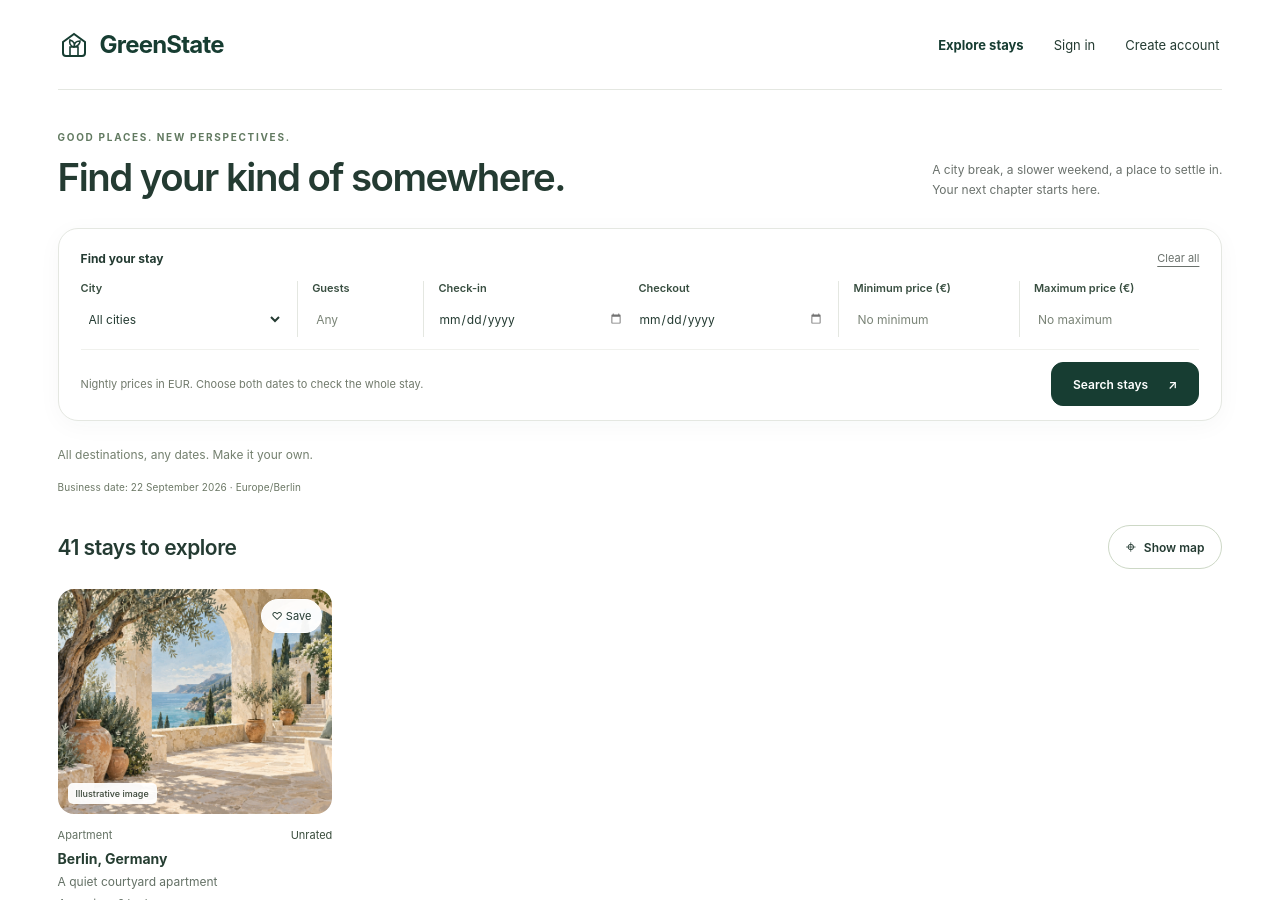
Test: URL-driven search › rejects fractional cents before sending a search request
The width and height of the screenshot is (1280, 900).
expect the link "A quiet courtyard apartment" is shown: met, box [58, 874, 218, 890]
Step 1. Type "12.345" into the field labelled "Minimum price (€)" → (929, 319), box [854, 301, 1005, 337]
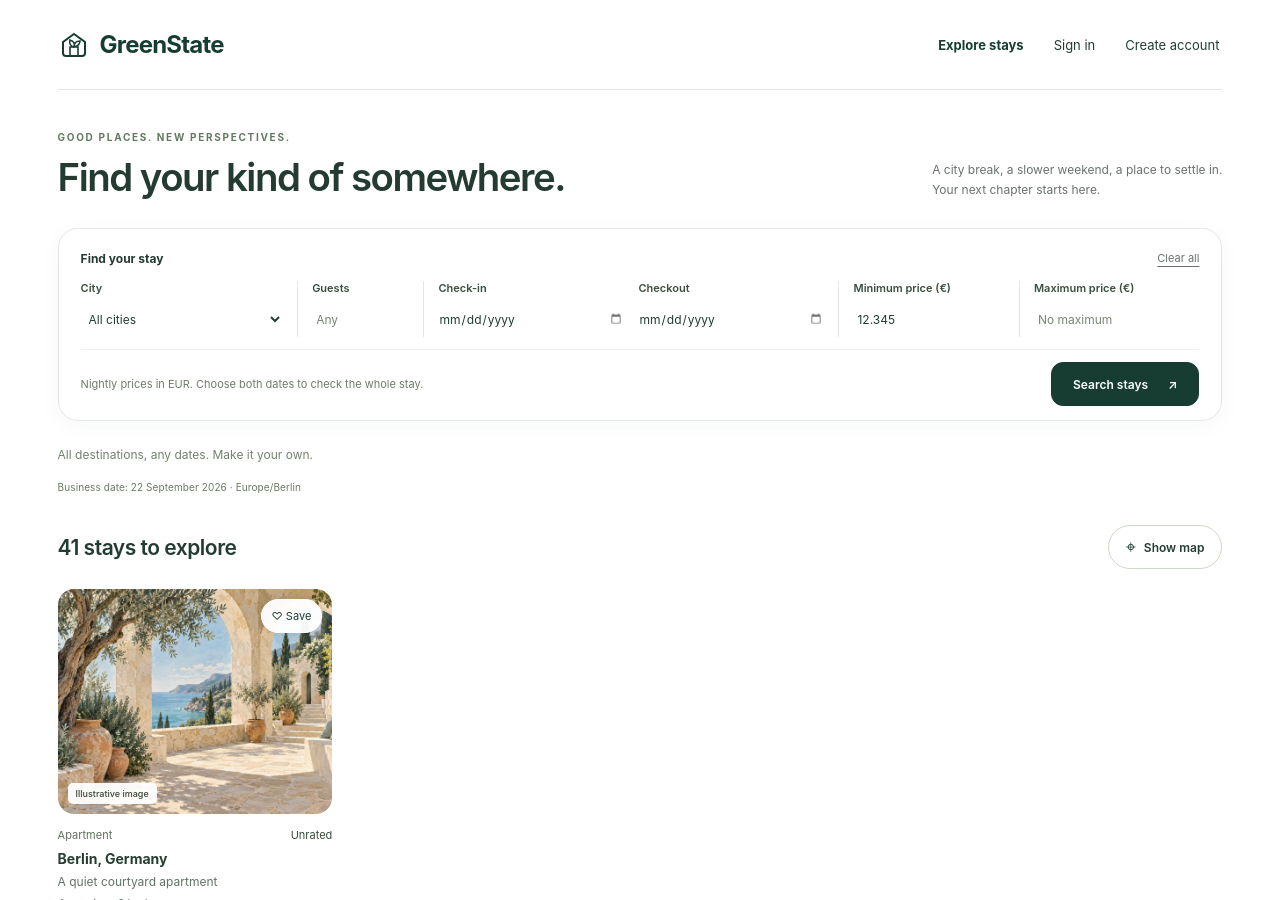
Step 2. Click the button "Search stays ↗" → (1125, 384), box [1051, 362, 1199, 406]
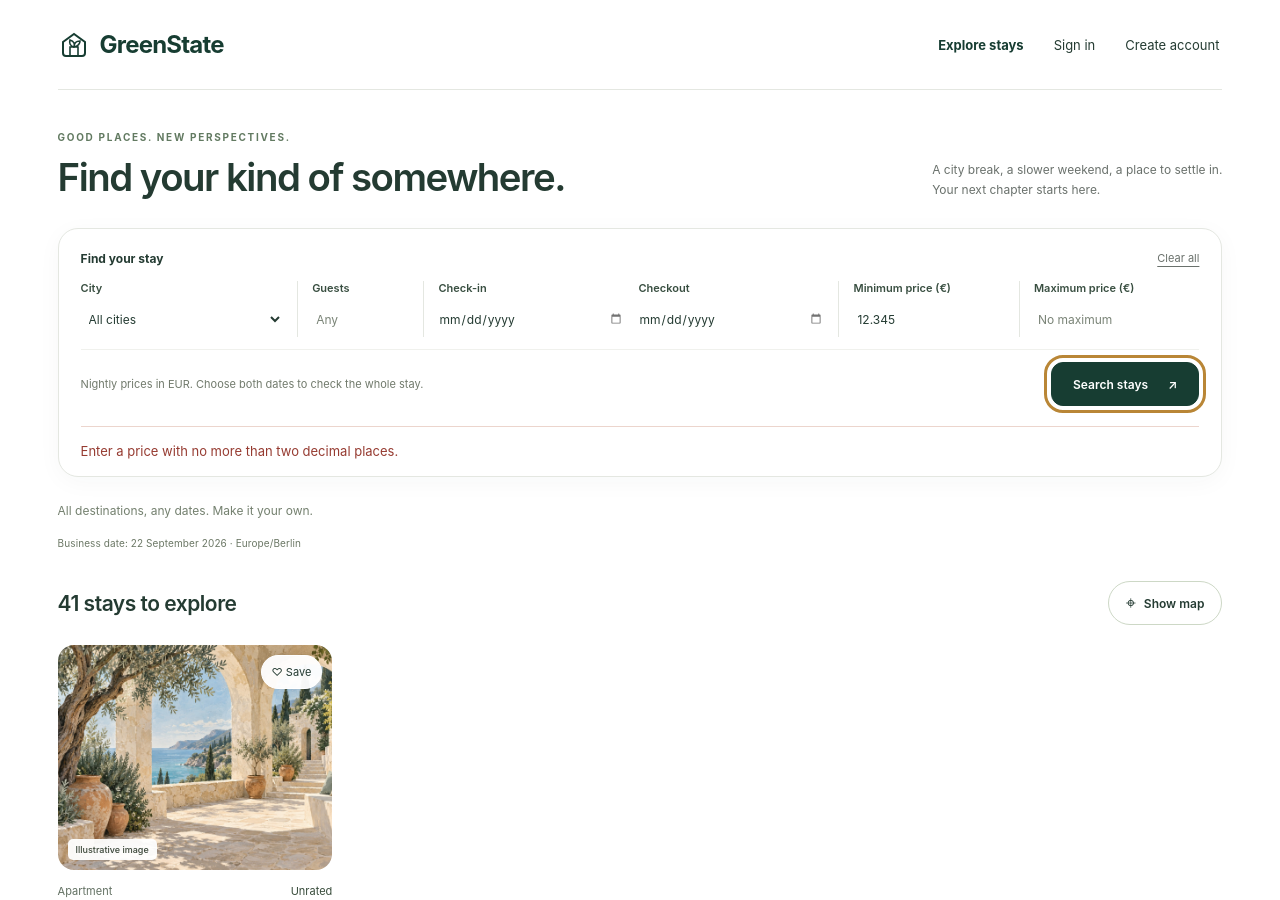
expect the message shows "two decimal places": met, box [81, 443, 398, 459]
